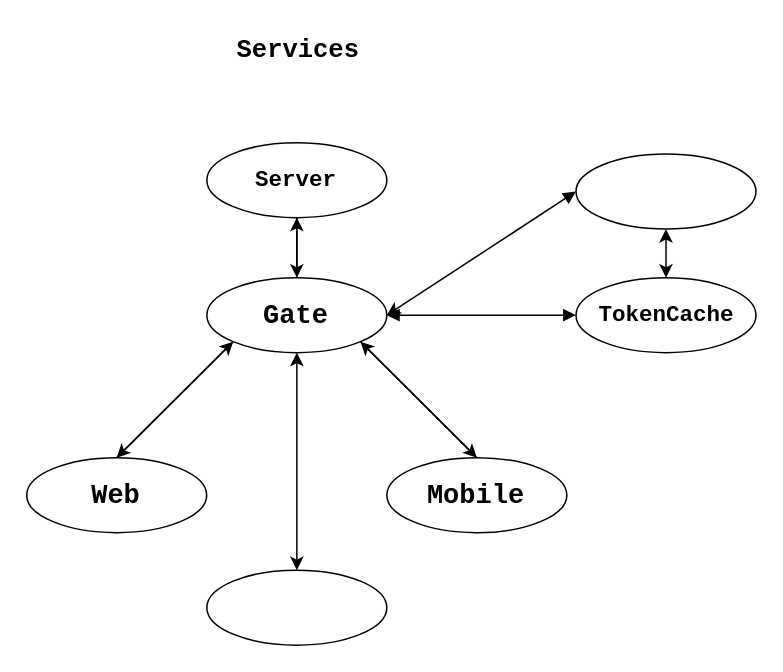
The diagram is 783 pixels wide and 672 high, and some of its shapes have lost their labels. The shapes that lost their labels are listed below. From the top down, each one's centre as x and y in pixels, then its label:
At (665,191): "AuthService".
At (296,607): "Admin".
